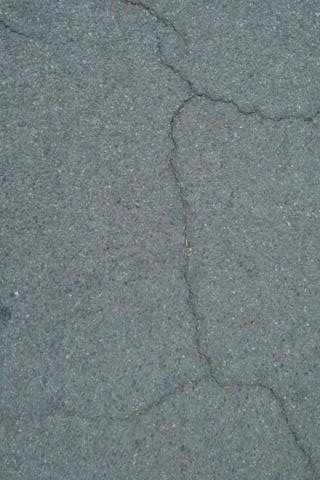A: (150, 34, 320, 474), (117, 2, 200, 45)
